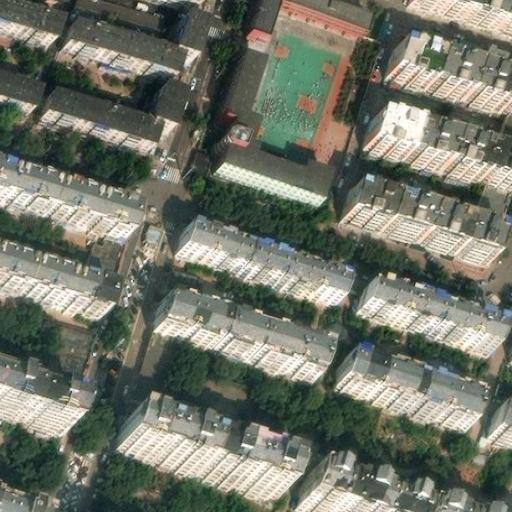building: (214, 49, 326, 201), (153, 291, 324, 376), (176, 224, 340, 301), (358, 111, 512, 185), (334, 350, 475, 422), (358, 279, 498, 346), (380, 40, 502, 106), (338, 185, 456, 249), (34, 85, 150, 143), (58, 21, 174, 78), (296, 471, 432, 512), (196, 437, 287, 497), (118, 411, 209, 471), (80, 202, 138, 282), (51, 179, 132, 230), (74, 0, 173, 38), (43, 319, 96, 388), (8, 389, 75, 436), (44, 270, 109, 316), (281, 0, 366, 30), (138, 323, 180, 377), (466, 177, 507, 231), (446, 219, 493, 260), (140, 81, 176, 123), (164, 17, 195, 57), (0, 481, 36, 511), (491, 106, 512, 156), (488, 403, 512, 438), (492, 75, 512, 108), (501, 471, 512, 512)
